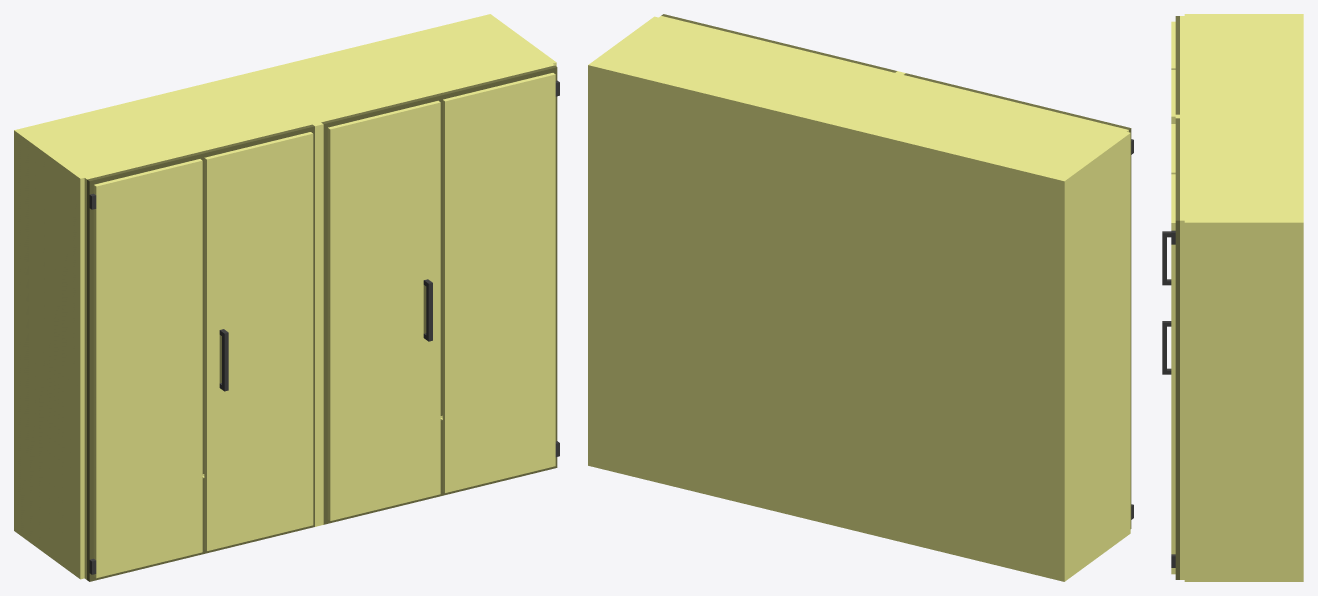
File: cabinet.obj
The picture shows the model from 3 angles, left to right: view 1: azimuth 30°, elevation 25°; view 2: azimuth 150°, elevation 25°; view 3: azimuth 270°, elevation 25°; orthographic projection. The views are drawn at different scales.
Bounding box in the file's own units: 11.2 × 9 × 3.2.
Materials: 1 (1 with a texture image).
